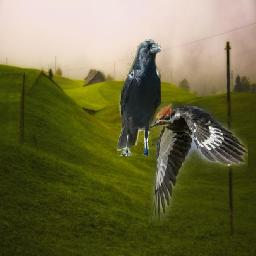Crow: (117, 40, 161, 157)
Woodpecker: (150, 103, 249, 224)
